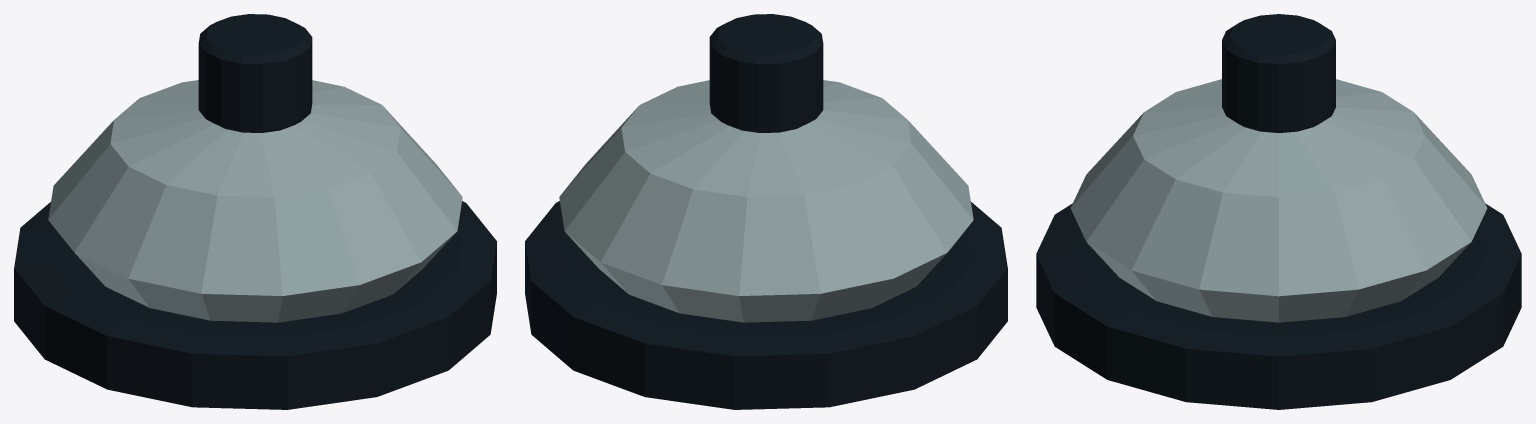
File: horror_bell.obj
The picture shows the model from 3 angles, left to right: view 1: azimuth 30°, elevation 25°; view 2: azimuth 150°, elevation 25°; view 3: azimuth 270°, elevation 25°; orthographic projection.
Visible parts, largest first — view 1: Bell, Base, Button; view 2: Bell, Base, Button; view 3: Bell, Base, Button.
Part boxes in pixels (bbox=[...]): Bell: bbox=[48, 80, 462, 322]; Base: bbox=[14, 201, 496, 409]; Button: bbox=[198, 14, 312, 132]; Bell: bbox=[559, 80, 973, 322]; Base: bbox=[525, 201, 1007, 409]; Button: bbox=[709, 14, 823, 132]; Bell: bbox=[1070, 79, 1487, 322]; Base: bbox=[1036, 203, 1521, 409]; Button: bbox=[1222, 14, 1335, 132].
Size of the model in its own units: 0.85 by 0.535 by 0.85.
